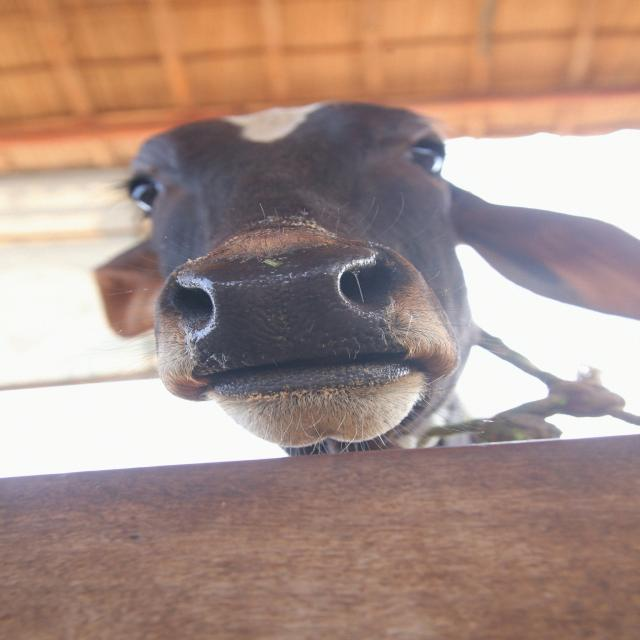muzzles: (151, 243, 428, 394)
